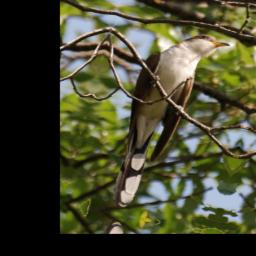Cuckoo: (99, 22, 233, 221)
